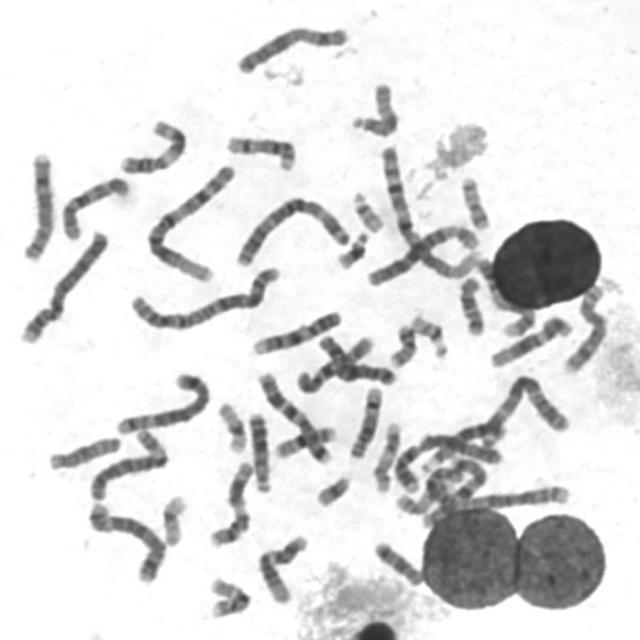A1: (375, 138, 484, 282), (140, 158, 240, 284)
A2: (123, 258, 284, 332), (414, 477, 571, 529)
A3: (228, 190, 353, 268), (474, 369, 573, 450)
B4: (14, 223, 112, 346), (391, 430, 508, 495)
B5: (82, 495, 168, 586), (110, 367, 214, 436)
C10: (55, 170, 133, 242), (291, 329, 376, 395)
C11: (202, 455, 256, 550), (113, 112, 190, 176)
C12: (485, 309, 575, 369), (252, 528, 311, 605)
C6: (362, 218, 482, 289), (84, 423, 172, 502)
C7: (252, 366, 335, 464), (417, 456, 490, 532)
C8: (15, 145, 58, 263), (558, 279, 610, 376)
C9: (476, 255, 538, 338), (246, 304, 344, 356)
D13: (414, 418, 507, 478), (242, 406, 274, 494)
D14: (220, 128, 300, 173), (344, 381, 385, 460)
D15: (346, 76, 402, 139), (42, 430, 125, 472)
E16: (269, 419, 340, 461), (203, 572, 253, 620)
E17: (390, 464, 463, 517), (368, 416, 403, 494)
E18: (368, 536, 424, 588), (454, 271, 487, 337)
F19: (211, 396, 249, 455), (156, 488, 190, 549)
F20: (455, 170, 493, 231), (383, 317, 420, 370)
G21: (331, 225, 372, 271), (310, 468, 354, 508)
G22: (405, 308, 451, 359), (347, 185, 386, 234)
X: (229, 18, 351, 76), (313, 328, 399, 388)
